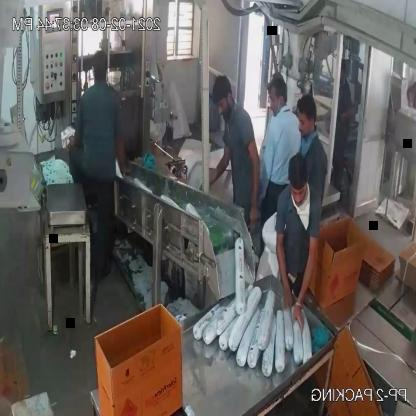no_glove: (292, 218, 324, 335), (268, 217, 292, 318), (245, 131, 262, 230), (209, 138, 232, 197)
